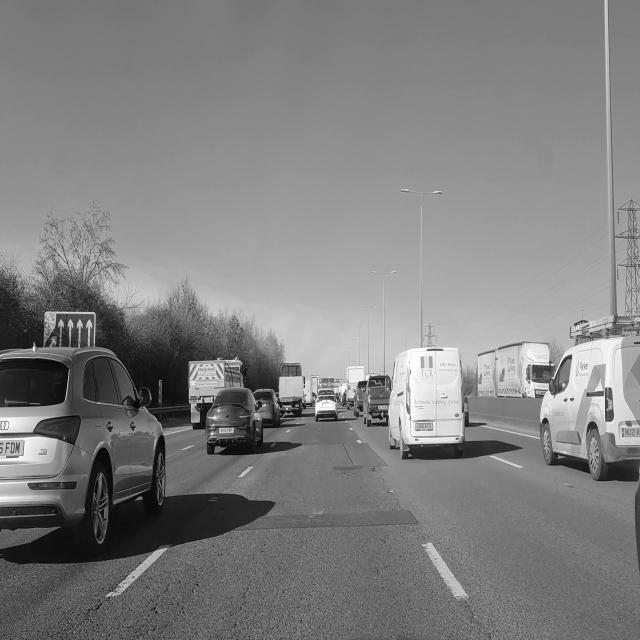car: (0, 347, 165, 554), (540, 335, 639, 480), (389, 348, 464, 459), (206, 388, 263, 454), (363, 376, 390, 426), (254, 389, 280, 427), (315, 390, 337, 421), (354, 380, 367, 416), (463, 396, 469, 428)
